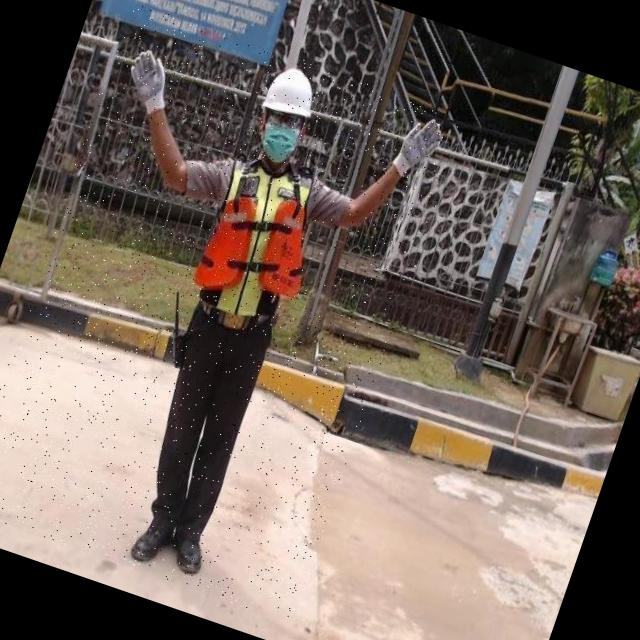hard_hat: (260, 62, 326, 124)
safety_vest: (188, 152, 336, 332)
vehicle: (0, 0, 466, 623)
work_boots: (126, 507, 180, 572), (163, 524, 214, 582)
